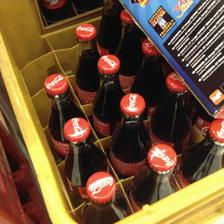Soda: (109, 90, 151, 174), (62, 118, 106, 196), (43, 72, 83, 152), (154, 72, 190, 152), (92, 54, 126, 134), (73, 20, 99, 100)
